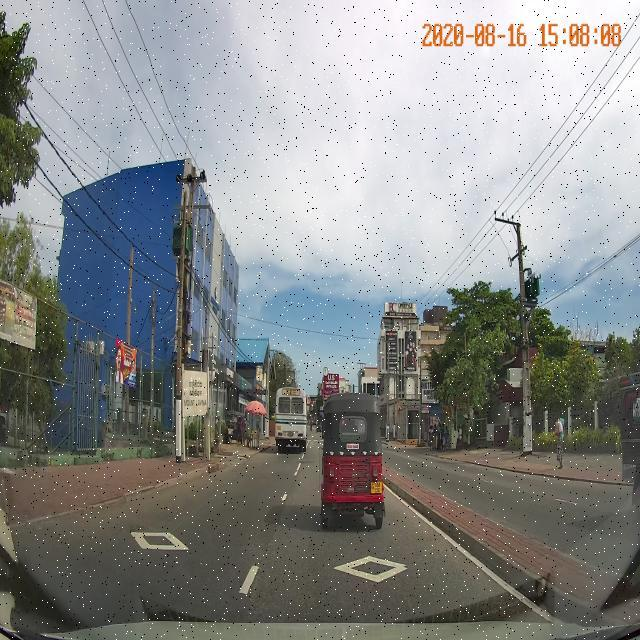diamond: (224, 540, 542, 619)
